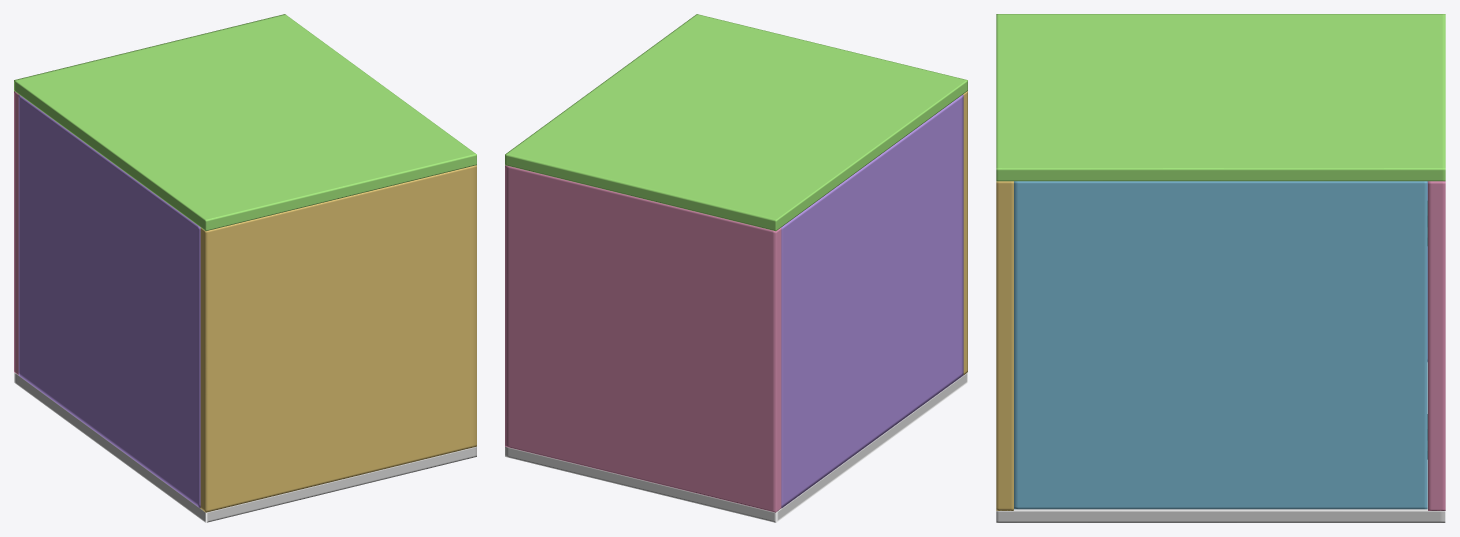
File: SmallCabinet.glb
3 views of the same model, side by side, from view 1: azimuth 30°, elevation 25°; view 2: azimuth 150°, elevation 25°; view 3: azimuth 270°, elevation 25° (orthographic). The views are drawn at different scales.
Parts seen in each view (by area): view 1: left plank.001, top plank.001, back plank.001, bottom plank.001, right plank.001; view 2: right plank.001, top plank.001, back plank.001, bottom plank.001, left plank.001; view 3: door.001, top plank.001, bottom plank.001, left plank.001, right plank.001.
Part boxes in pixels (left/top/right/bottom): left plank.001: left=200, top=165, right=476, bottom=512; top plank.001: left=14, top=14, right=476, bottom=230; back plank.001: left=18, top=95, right=200, bottom=508; bottom plank.001: left=14, top=372, right=476, bottom=522; right plank.001: left=14, top=91, right=18, bottom=374; right plank.001: left=505, top=165, right=781, bottom=512; top plank.001: left=505, top=14, right=967, bottom=231; back plank.001: left=781, top=94, right=963, bottom=508; bottom plank.001: left=505, top=372, right=967, bottom=522; left plank.001: left=963, top=91, right=967, bottom=374; door.001: left=1014, top=181, right=1427, bottom=509; top plank.001: left=996, top=14, right=1445, bottom=181; bottom plank.001: left=996, top=362, right=1445, bottom=522; left plank.001: left=996, top=181, right=1013, bottom=510; right plank.001: left=1428, top=181, right=1445, bottom=510.
Bounding box in the file's own units: 1.26 × 1.34 × 1.54.
